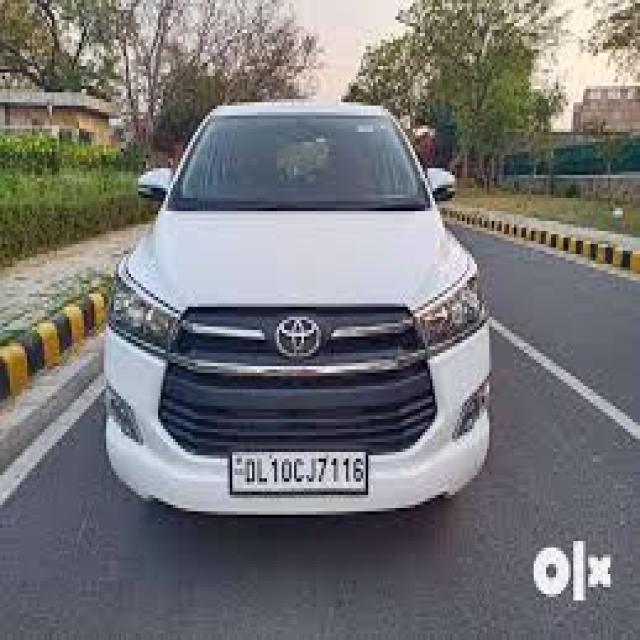cars: (96, 74, 512, 546)
